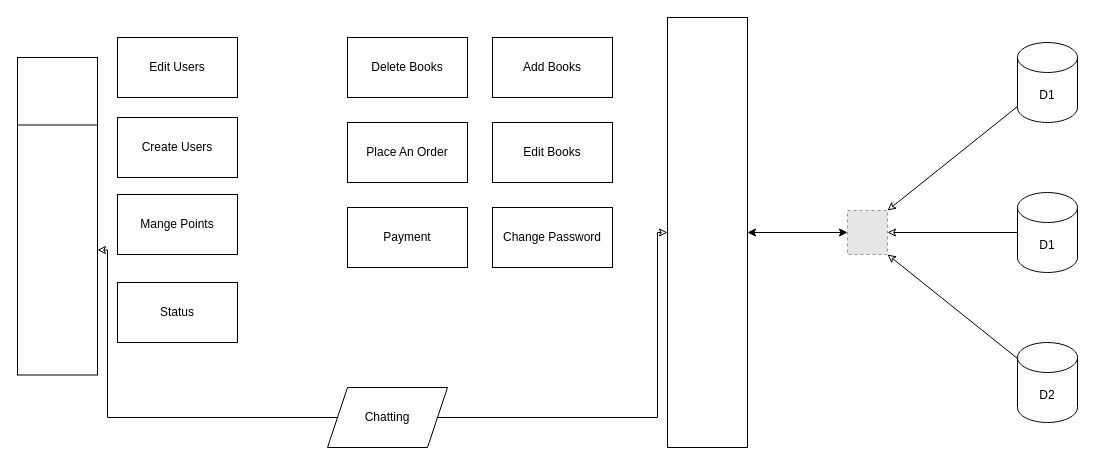
The diagram is 1095 pixels wide and 465 high, and some of its shapes have lost their labels. Grey dashed boxes stand in for pictures. Each missing label, with the centre of its shape:
Authentication System: (57,97)
Authrize: (57,249)
DB Manager: (707,232)
